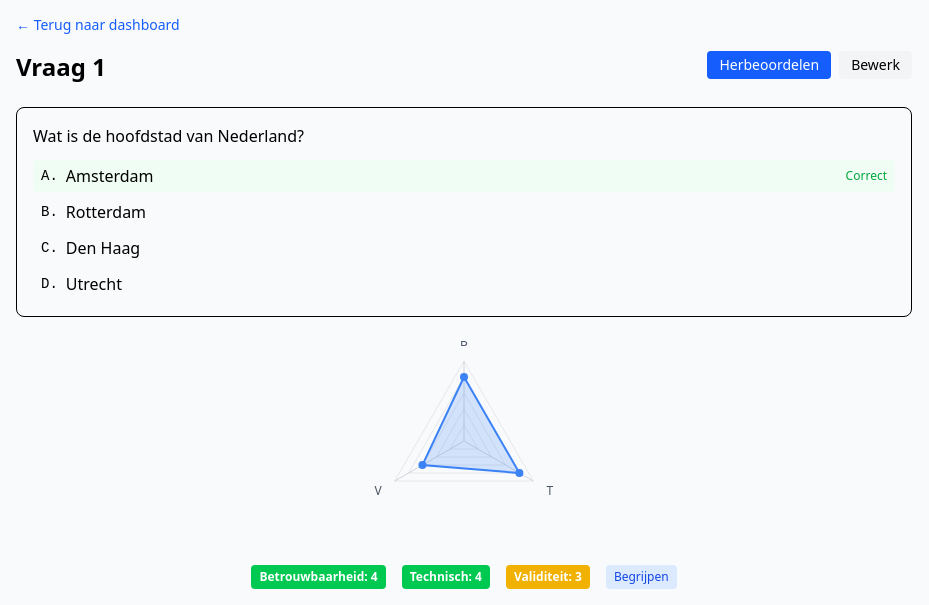
Test: QuestionDetail › T9.4: error message on failed reassessment
Check: the text "Wat is de hoofdstad van Nederland?" is shown, box [33,125,304,147]
Click the button "Herbeoordelen" at (769, 65), box [708,51,831,79]
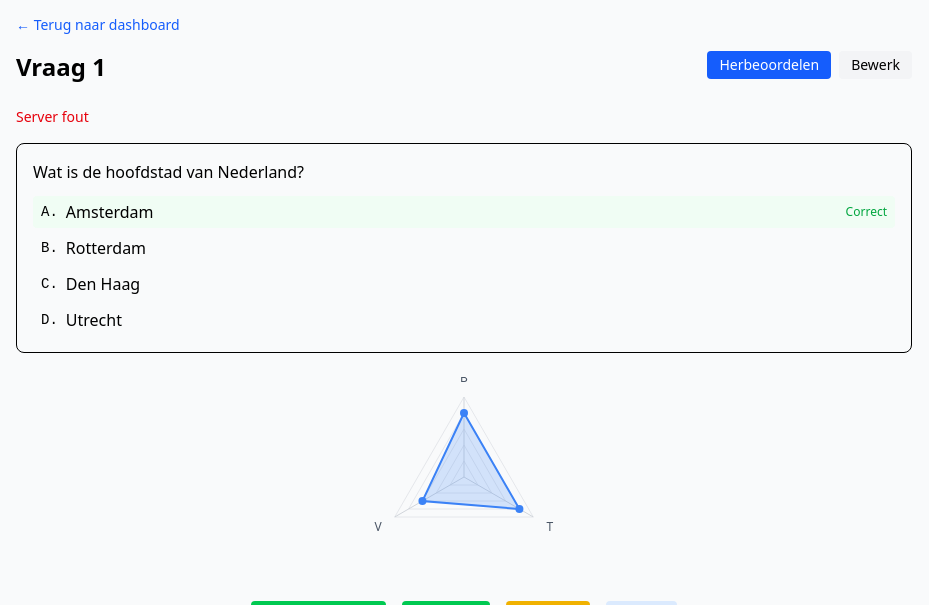
Check: the text "Server fout" is shown, box [16,107,89,126]
